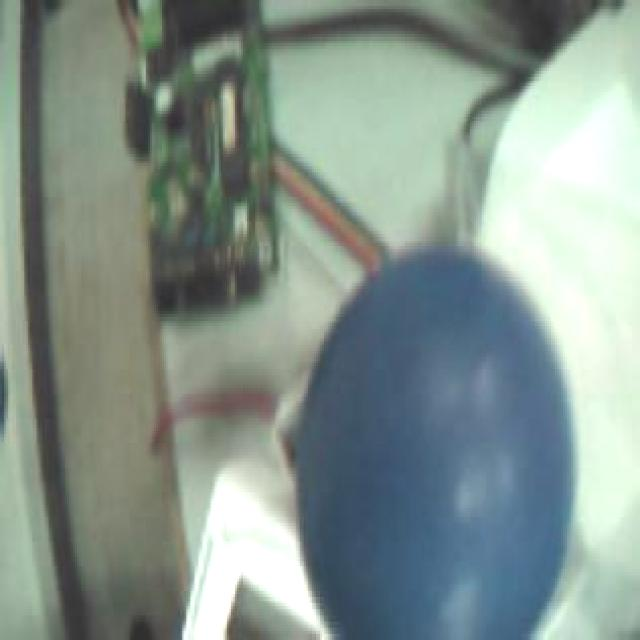BallPurple: (295, 242, 572, 640)
